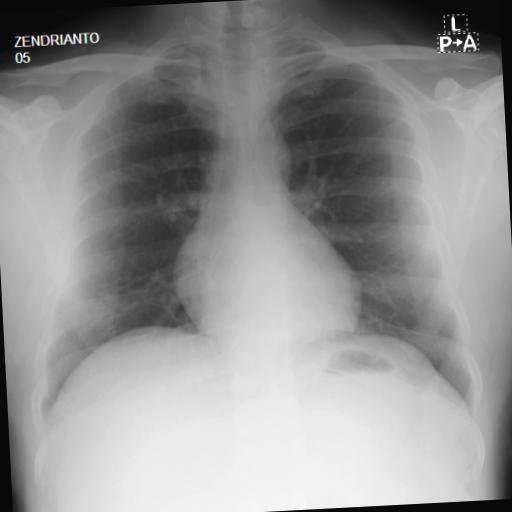normal: (8, 9, 494, 478)
